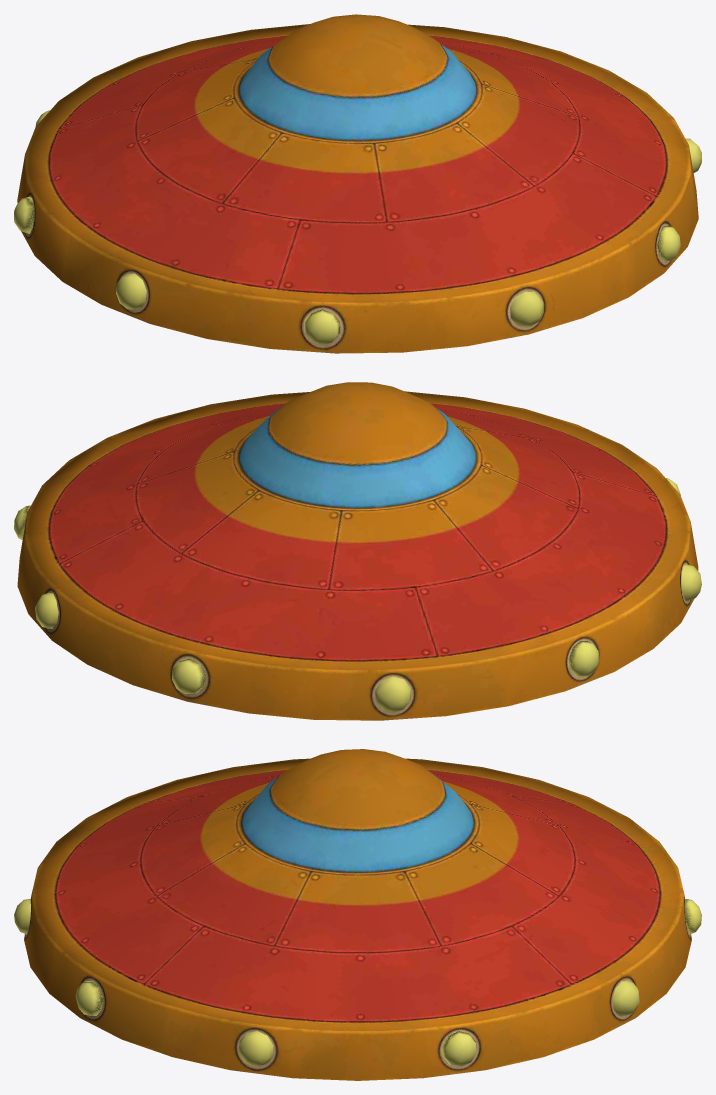
File: UFO_D.dae
3 views of the same model, one above another, from view 1: azimuth 30°, elevation 25°; view 2: azimuth 150°, elevation 25°; view 3: azimuth 270°, elevation 25° (orthographic). The views are drawn at different scales.
Parts seen in each view (by area): view 1: Flying_Saucer_D; view 2: Flying_Saucer_D; view 3: Flying_Saucer_D.
Part boxes in pixels (bbox=[...]): Flying_Saucer_D: bbox=[14, 14, 701, 353]; Flying_Saucer_D: bbox=[14, 382, 701, 720]; Flying_Saucer_D: bbox=[14, 749, 701, 1080].
Size of the model in its own units: 0.5045 by 0.2394 by 0.5196.
Materials: 1 (1 with a texture image).
